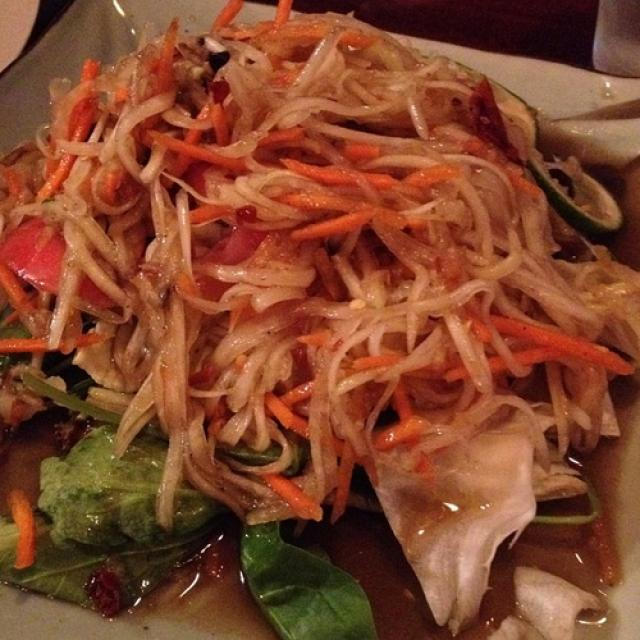蔬菜料理: (13, 18, 619, 618)
